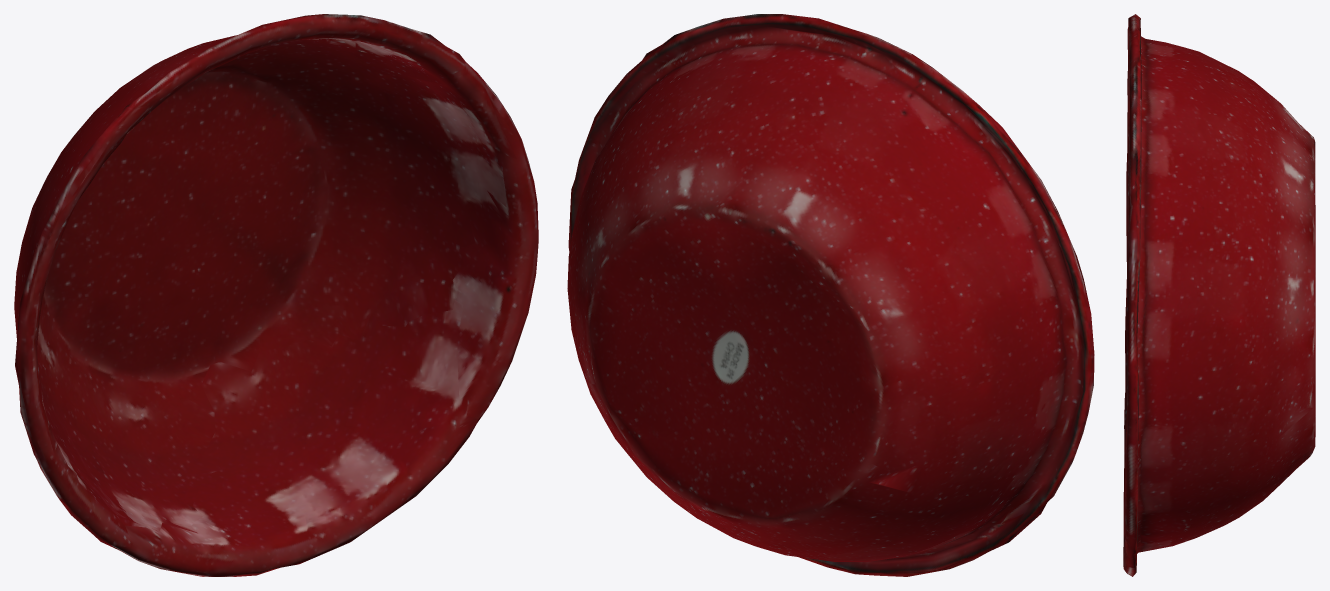
File: bowl.glb
3 views of the same model, side by side, from view 1: azimuth 30°, elevation 25°; view 2: azimuth 150°, elevation 25°; view 3: azimuth 270°, elevation 25° (orthographic). The views are drawn at different scales.
Visible parts, largest first — view 1: textured.035; view 2: textured.035; view 3: textured.035.
Boxes of the visible parts, x1=… form: textured.035: x1=14, y1=14, x2=538, y2=576; textured.035: x1=567, y1=14, x2=1094, y2=576; textured.035: x1=1123, y1=14, x2=1315, y2=576.
Bounding box in the file's own units: 0.1612 × 0.161 × 0.055.
1 material, 1 textured.
